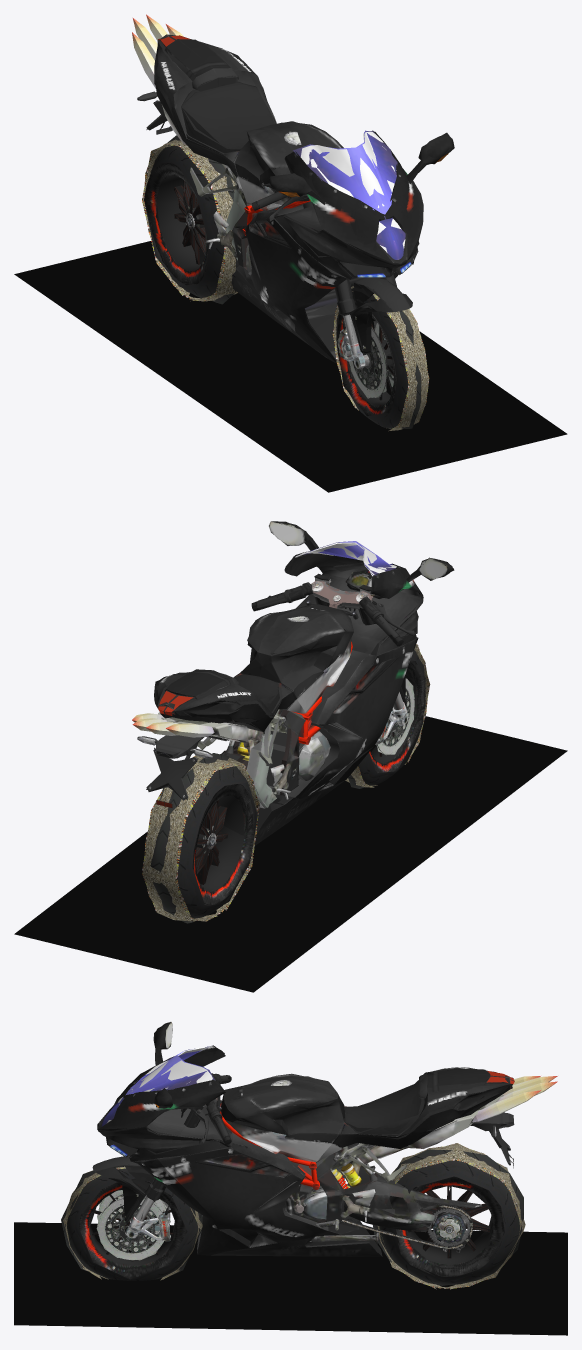
Rendered from NV Bluster 2016 Z4 Black.fbx.
The picture shows the model from 3 angles, top to bottom: view 1: azimuth 30°, elevation 25°; view 2: azimuth 150°, elevation 25°; view 3: azimuth 270°, elevation 25°; orthographic projection. The views are drawn at different scales.
Parts seen in each view (by area): view 1: Motorbike_Shadow, Body__LOD2_, Body, Body__LOD1_, Rear_Wheel__LOD2_, Rear_Tire__LOD2_, Front_Fork, Front_Wheel__LOD2_, Rear_Wheel__LOD1_, Rear_Wheel, Front_Wheel, Front_Tire__LOD2_ (+11 smaller); view 2: Motorbike_Shadow, Body__LOD2_, Body, Body__LOD1_, Rear_Tire__LOD2_, Rear_Wheel__LOD2_, Rear_Wheel_Dirt__LOD2_, Handle, Rear_Wheel__LOD1_, Rear_Wheel, Front_Wheel__LOD2_, Rear_Wheel_Dirt (+7 smaller); view 3: Motorbike_Shadow, Body__LOD2_, Body, Body__LOD1_, Front_Wheel__LOD2_, Rear_Tire__LOD2_, Rear_Wheel, Rear_Wheel__LOD2_, Front_Wheel, Swing_Arm, Rear_Wheel__LOD1_, Front_Fork (+17 smaller).
Boxes of the visible parts, x1=… form: Motorbike_Shadow: x1=14, y1=241, x2=567, y2=492; Body__LOD2_: x1=144, y1=34, x2=454, y2=363; Body: x1=137, y1=36, x2=452, y2=361; Body__LOD1_: x1=140, y1=39, x2=453, y2=361; Rear_Wheel__LOD2_: x1=144, y1=163, x2=208, y2=285; Rear_Tire__LOD2_: x1=144, y1=135, x2=239, y2=304; Front_Fork: x1=336, y1=277, x2=412, y2=368; Front_Wheel__LOD2_: x1=336, y1=300, x2=397, y2=415; Rear_Wheel__LOD1_: x1=149, y1=162, x2=207, y2=284; Rear_Wheel: x1=149, y1=163, x2=208, y2=284; Front_Wheel: x1=346, y1=320, x2=394, y2=416; Front_Tire__LOD2_: x1=350, y1=281, x2=421, y2=428; Motorbike_Shadow: x1=14, y1=716, x2=567, y2=992; Body__LOD2_: x1=143, y1=521, x2=454, y2=845; Body: x1=137, y1=521, x2=452, y2=841; Body__LOD1_: x1=138, y1=522, x2=453, y2=835; Rear_Tire__LOD2_: x1=150, y1=753, x2=257, y2=923; Rear_Wheel__LOD2_: x1=192, y1=784, x2=254, y2=905; Rear_Wheel_Dirt__LOD2_: x1=142, y1=757, x2=259, y2=921; Handle: x1=251, y1=573, x2=415, y2=646; Rear_Wheel__LOD1_: x1=194, y1=784, x2=253, y2=904; Rear_Wheel: x1=195, y1=784, x2=254, y2=905; Front_Wheel__LOD2_: x1=369, y1=660, x2=425, y2=773; Rear_Wheel_Dirt: x1=144, y1=757, x2=257, y2=920; Motorbike_Shadow: x1=14, y1=1222, x2=567, y2=1335; Body__LOD2_: x1=97, y1=1022, x2=514, y2=1256; Body: x1=98, y1=1022, x2=514, y2=1256; Body__LOD1_: x1=97, y1=1022, x2=512, y2=1256; Front_Wheel__LOD2_: x1=78, y1=1181, x2=187, y2=1279; Rear_Tire__LOD2_: x1=373, y1=1149, x2=523, y2=1282; Rear_Wheel: x1=398, y1=1176, x2=504, y2=1276; Rear_Wheel__LOD2_: x1=398, y1=1181, x2=505, y2=1275; Front_Wheel: x1=87, y1=1189, x2=176, y2=1261; Swing_Arm: x1=342, y1=1184, x2=481, y2=1252; Rear_Wheel__LOD1_: x1=396, y1=1177, x2=504, y2=1276; Front_Fork: x1=93, y1=1156, x2=173, y2=1241.
Bounding box in the file's own units: 110 × 115 × 250.
